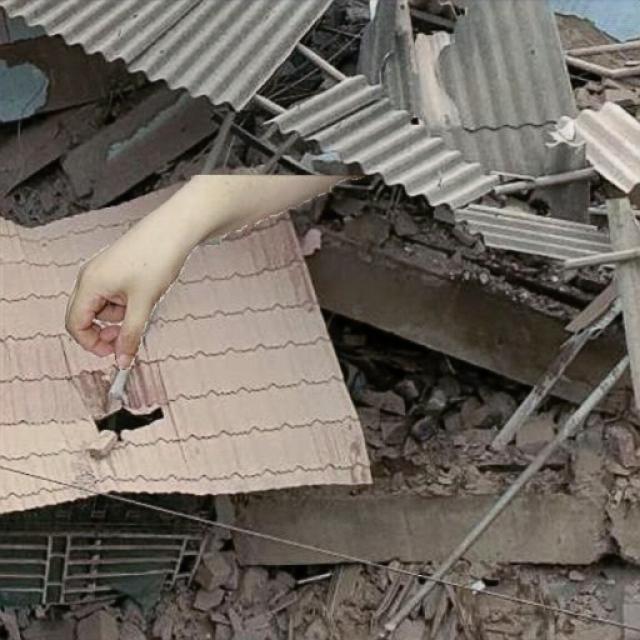Person in Rubble: (65, 175, 364, 369)
